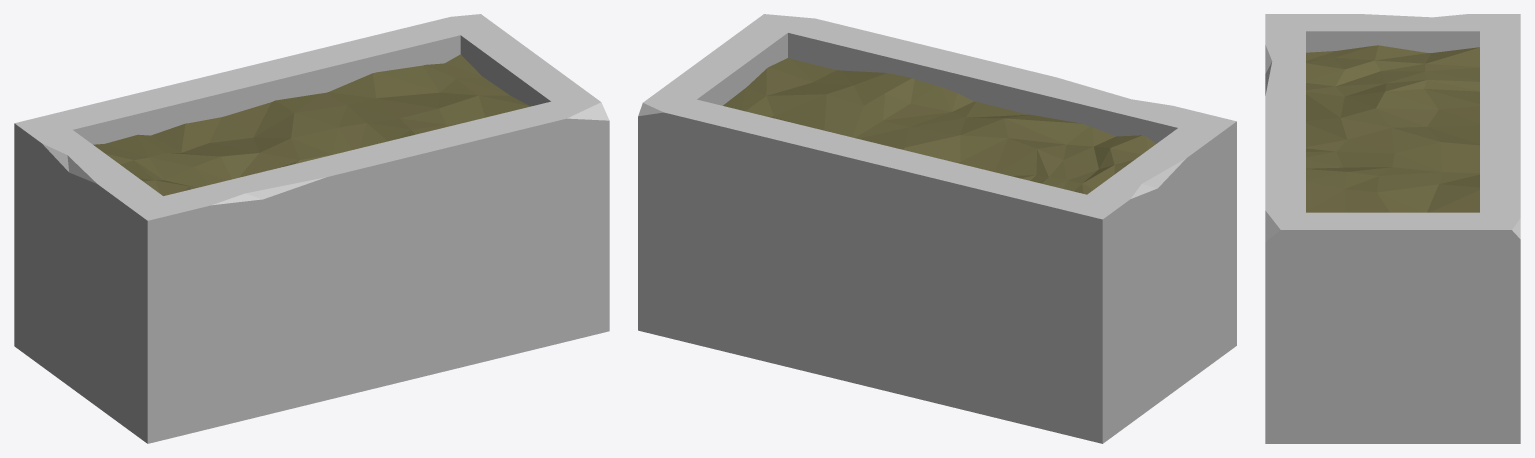
Rendered from SM_Bld_Planter_Box_01.fbx.
3 views of the same model, side by side, from view 1: azimuth 30°, elevation 25°; view 2: azimuth 150°, elevation 25°; view 3: azimuth 270°, elevation 25° (orthographic). The views are drawn at different scales.
Visible parts, largest first — view 1: SM_Bld_Planter_Box_01; view 2: SM_Bld_Planter_Box_01; view 3: SM_Bld_Planter_Box_01.
Boxes of the visible parts, x1,y1,x2,y2 form: SM_Bld_Planter_Box_01: (14,14,609,443); SM_Bld_Planter_Box_01: (638,14,1236,443); SM_Bld_Planter_Box_01: (1265,14,1520,443).
Size of the model in its own units: 250 by 115 by 125.
